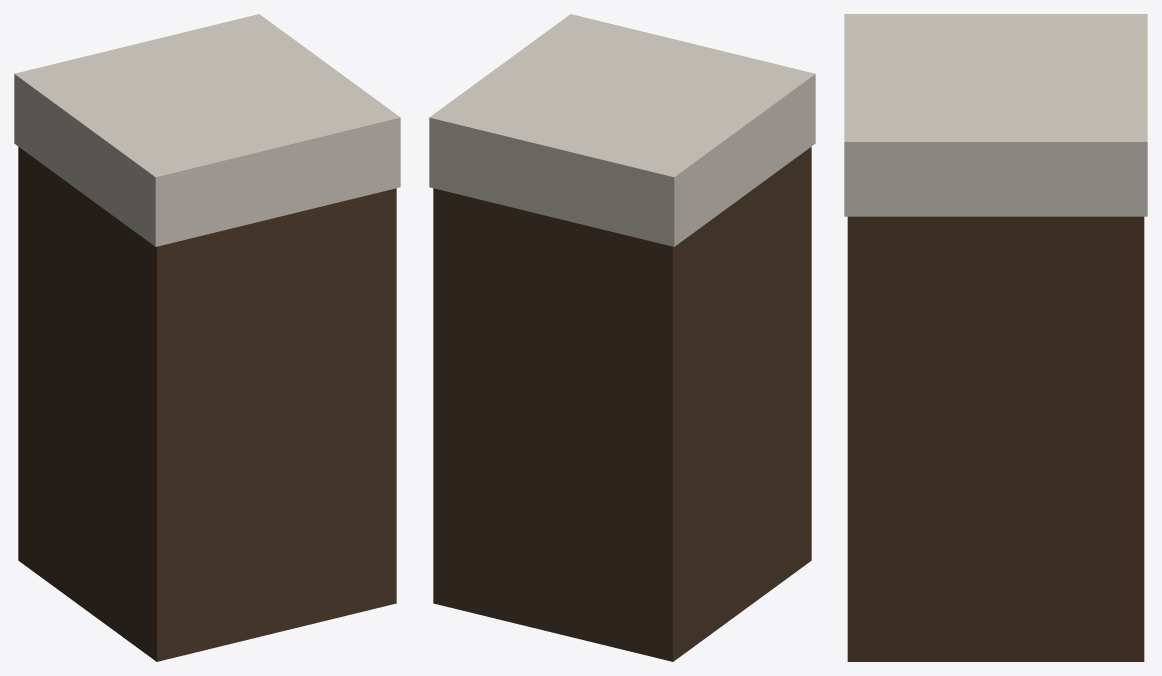
File: blockout-props.glb
The picture shows the model from 3 angles, left to right: view 1: azimuth 30°, elevation 25°; view 2: azimuth 150°, elevation 25°; view 3: azimuth 270°, elevation 25°; orthographic projection. The views are drawn at different scales.
Visible parts, largest first — view 1: prop_pint_glass, prop_pint_head; view 2: prop_pint_glass, prop_pint_head; view 3: prop_pint_glass, prop_pint_head.
Boxes of the visible parts, x1,y1,x2,y2 form: prop_pint_glass: (18,147,396,661); prop_pint_head: (14,14,400,246); prop_pint_glass: (433,147,811,661); prop_pint_head: (429,14,815,246); prop_pint_glass: (847,216,1144,661); prop_pint_head: (844,14,1147,216).
Size of the model in its own units: 0.092 by 0.1745 by 0.092.
